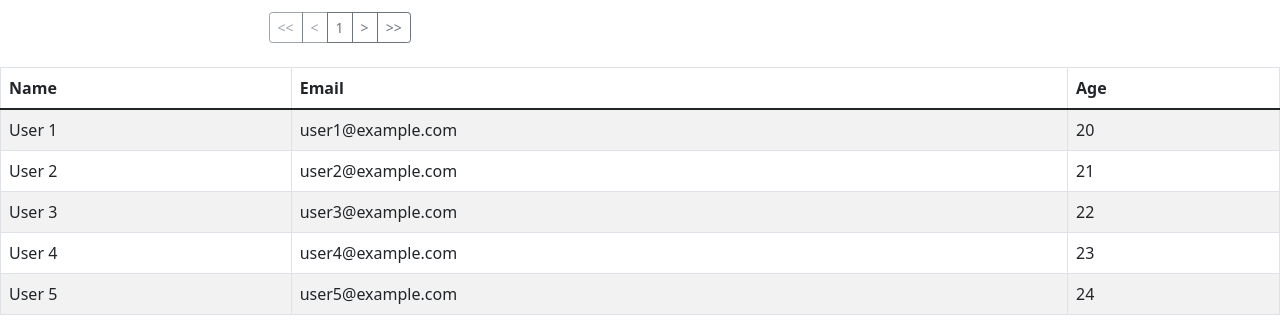
Scenario: Table Components Tests › DataTable › Pagination Navigation › should navigate forward and backward with pagination buttons
Check: the button "1" is shown, box [327,12,353,43]
Click the button ">" at (365, 28), box [352,12,378,43]
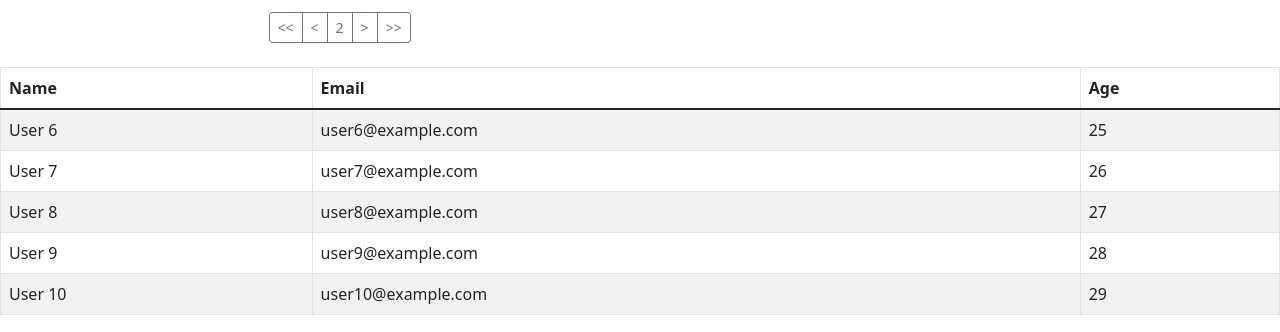
Check: the button "2" is shown, box [327,12,353,43]
Click the button ">>" at (394, 28), box [377,12,411,43]
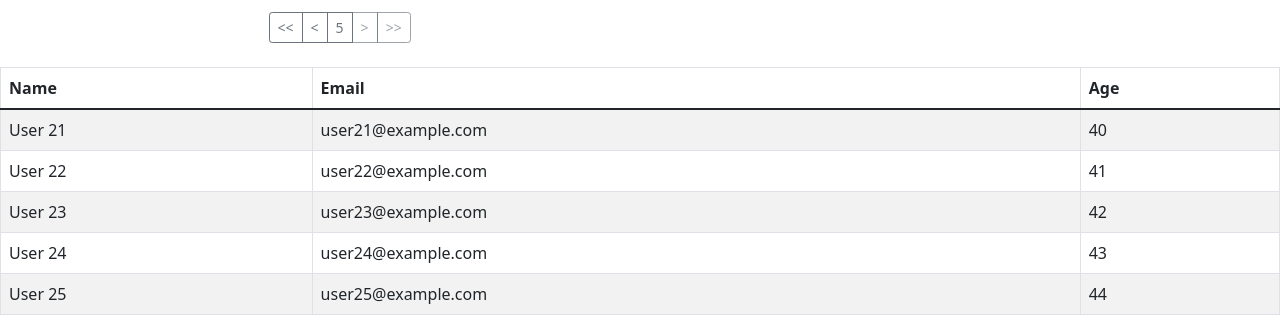
Check: the button "5" is shown, box [327,12,353,43]
Click the button "<" at (315, 28), box [302,12,328,43]
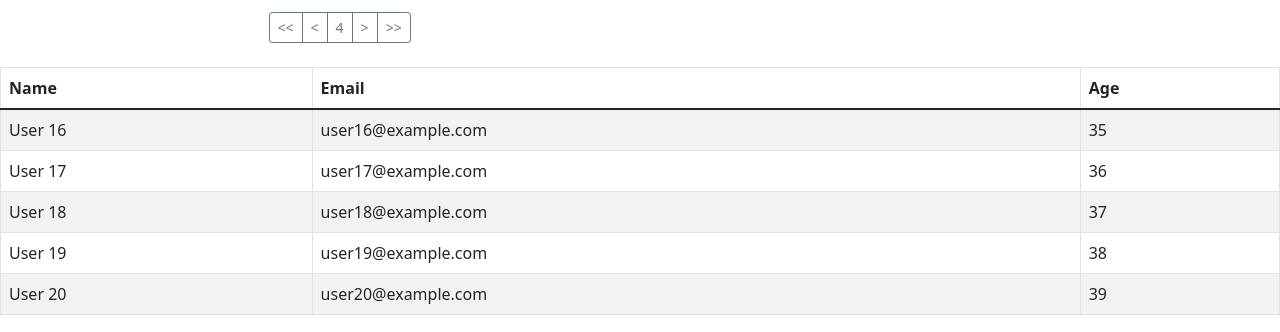
Check: the button "4" is shown, box [327,12,353,43]
Click the button "<<" at (286, 28), box [268,12,302,43]
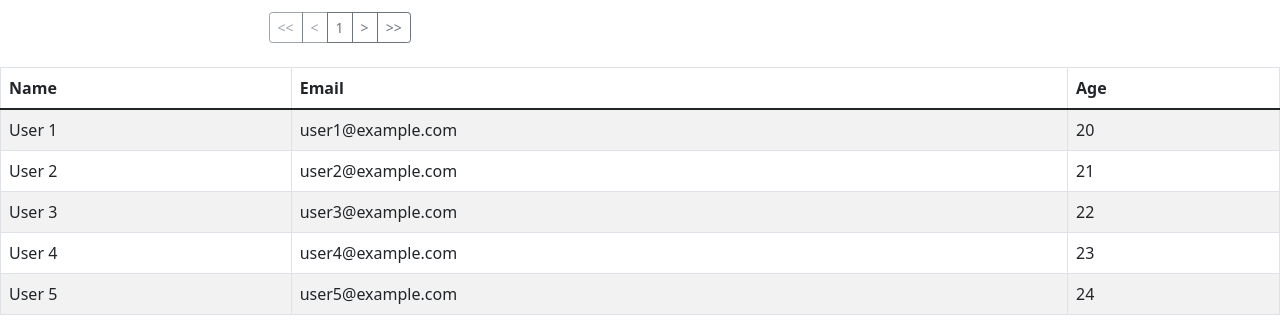
Check: the button "1" is shown, box [327,12,353,43]
